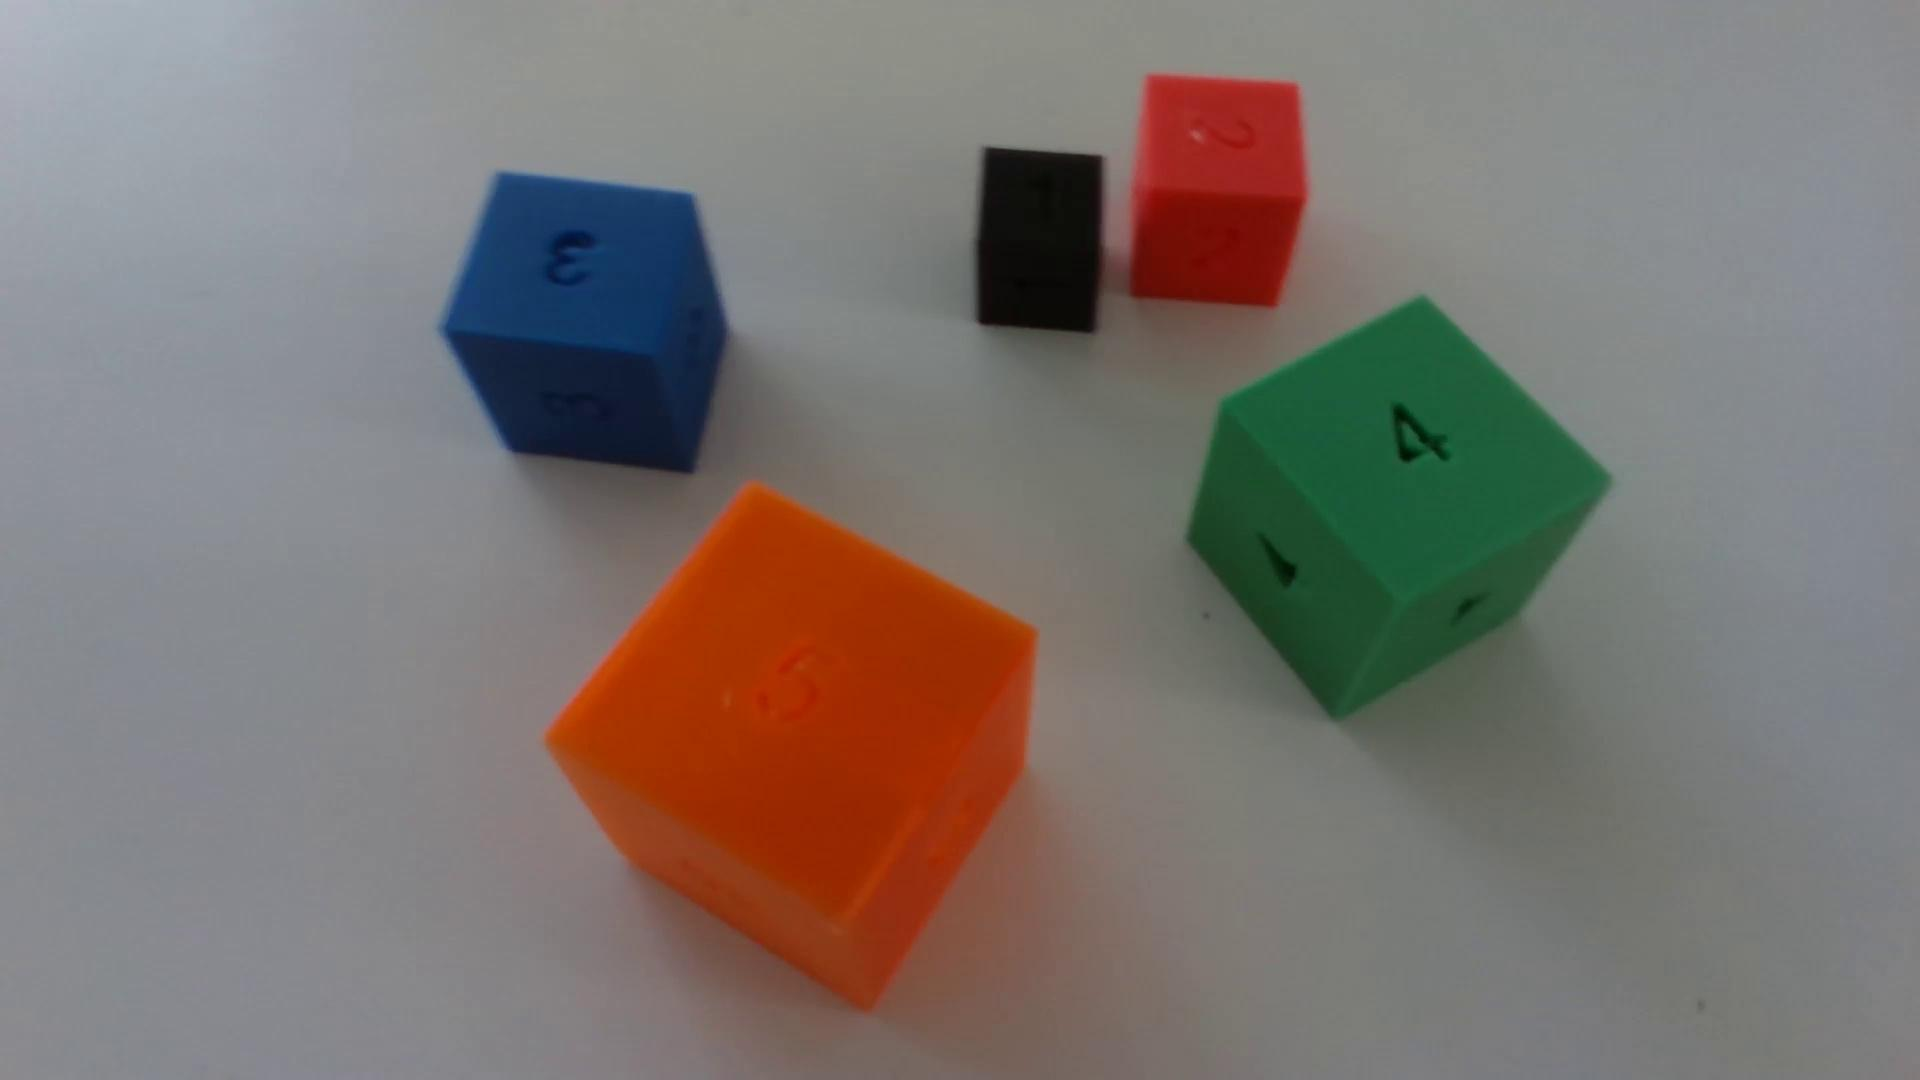black: (975, 148, 1104, 334)
blue: (440, 173, 727, 473)
green: (1187, 299, 1609, 717)
orange: (545, 485, 1036, 1009)
red: (1129, 75, 1309, 309)
